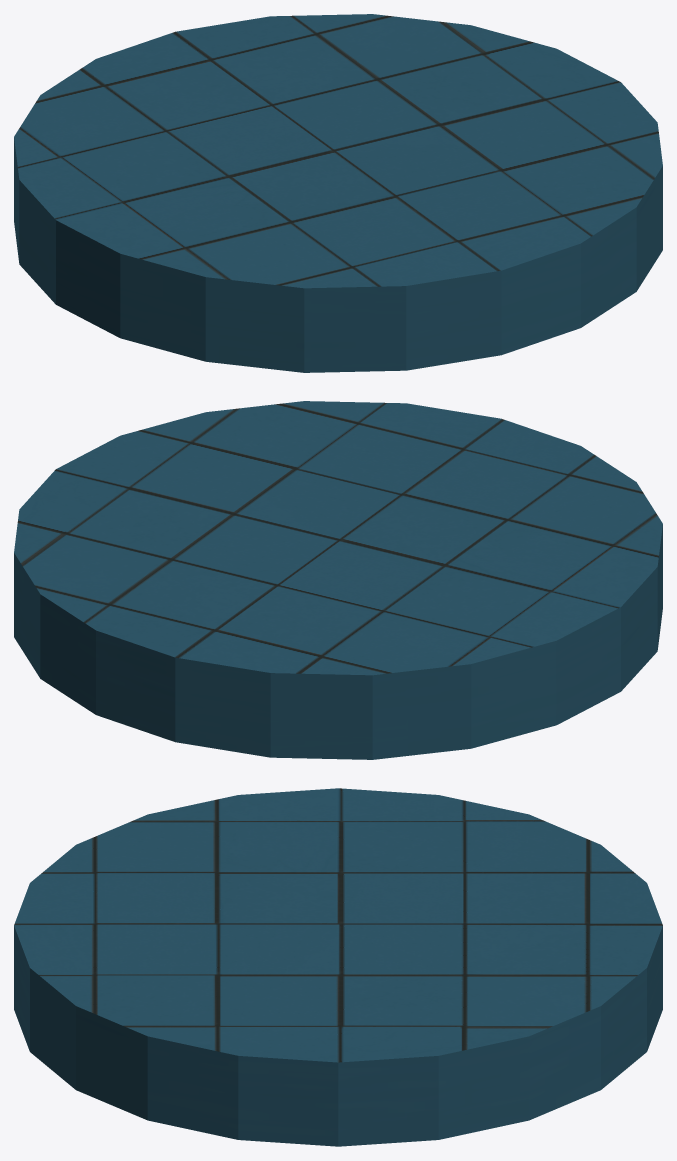
The model's file is SecondBossStage.fbx.
3 views of the same model, one above another, from view 1: azimuth 30°, elevation 25°; view 2: azimuth 150°, elevation 25°; view 3: azimuth 270°, elevation 25° (orthographic).
Visible parts, largest first — view 1: 円柱; view 2: 円柱; view 3: 円柱.
Part boxes in pixels (x1,y1,x2,y2): 円柱: [14, 14, 662, 372]; 円柱: [14, 401, 662, 759]; 円柱: [14, 788, 662, 1146].
Size of the model in its own units: 200 by 28.62 by 200.
1 material, 1 textured.
